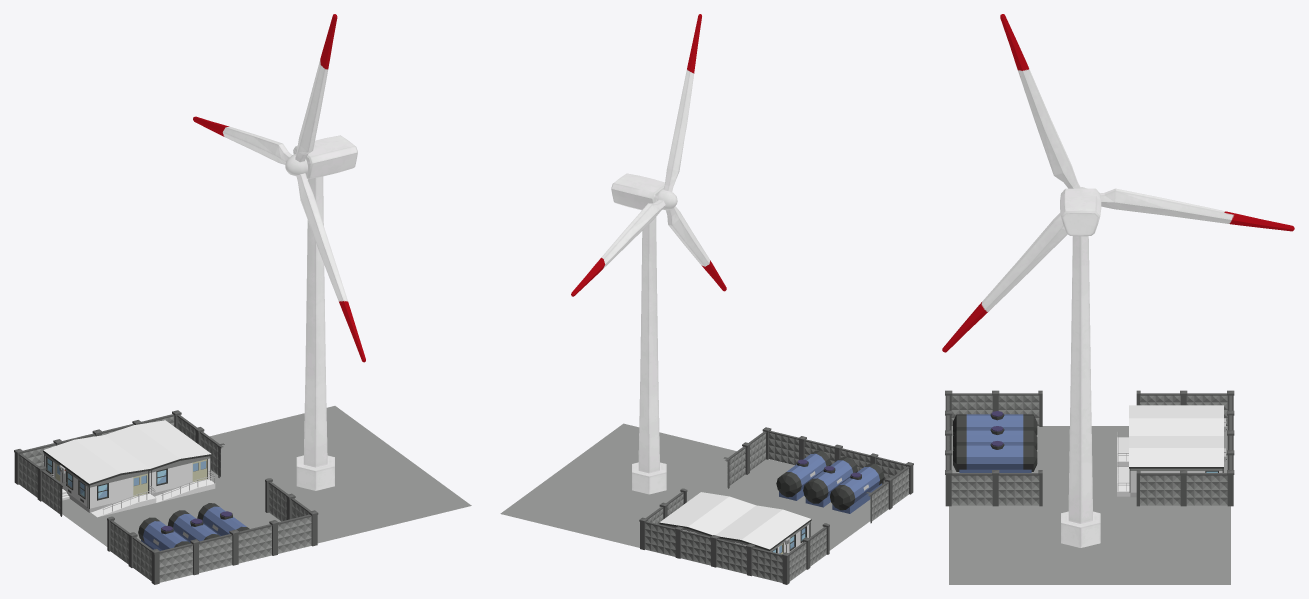
The model's file is turbin1.glb.
3 renders of one model, left to right at view 1: azimuth 30°, elevation 25°; view 2: azimuth 150°, elevation 25°; view 3: azimuth 270°, elevation 25°, orthographic. The views are drawn at different scales.
Visible parts, largest first — view 1: Wind_Turbin, store_005 (1), Helice_Eolienne, store_005 (2), fence_dark_004 (1), fence_dark_004 (3), tile_for_home_1x1_007 (26), tile_for_home_1x1_007 (25), tile_for_home_1x1_007 (24), tile_for_home_1x1_007 (27), tile_for_home_1x1_007 (23), tile_for_home_1x1_007 (22) (+7 smaller); view 2: Wind_Turbin, Helice_Eolienne, fence_dark_004, store_005 (1), tile_for_home_1x1_007 (27), fence_dark_004 (2), fence_dark_004 (3), tile_for_home_1x1_007 (25), store_005 (2), fence_dark_004 (1), tile_for_home_1x1_007 (23), tile_for_home_1x1_007 (26) (+9 smaller); view 3: Wind_Turbin, Helice_Eolienne, store_005 (2), tile_for_home_1x1_007 (24), tile_for_home_1x1_007 (23), tile_for_home_1x1_007 (27), tile_for_home_1x1_007 (26), tile_for_home_1x1_007 (25), fence_dark_004 (2), fence_dark_004 (3), store_005 (1), barrel_001.001 (2) (+7 smaller).
Part boxes in pixels (x1,y1,x2,y2): Wind_Turbin: (293,135,357,490); store_005 (1): (43,435,156,517); Helice_Eolienne: (193,14,365,362); store_005 (2): (105,420,215,502); fence_dark_004 (1): (107,516,236,584); fence_dark_004 (3): (233,478,318,564); tile_for_home_1x1_007 (26): (348,472,471,524); tile_for_home_1x1_007 (25): (327,439,425,491); tile_for_home_1x1_007 (24): (210,425,298,477); tile_for_home_1x1_007 (27): (256,406,380,456); tile_for_home_1x1_007 (23): (301,491,392,543); tile_for_home_1x1_007 (22): (223,459,346,508); Wind_Turbin: (611,173,666,494); Helice_Eolienne: (571,14,726,296); fence_dark_004: (713,523,829,584); store_005 (1): (716,505,811,554); tile_for_home_1x1_007 (27): (500,484,611,531); fence_dark_004 (2): (639,488,715,566); fence_dark_004 (3): (723,427,839,488); tile_for_home_1x1_007 (25): (541,453,631,500); store_005 (2): (659,492,755,536); fence_dark_004 (1): (836,445,913,523); tile_for_home_1x1_007 (23): (664,441,736,488); tile_for_home_1x1_007 (26): (583,423,693,465); Wind_Turbin: (1060,188,1101,547); Helice_Eolienne: (942,14,1294,352); store_005 (2): (1117,436,1226,497); tile_for_home_1x1_007 (24): (1137,505,1230,545); tile_for_home_1x1_007 (23): (949,505,1042,545); tile_for_home_1x1_007 (27): (1137,545,1230,584); tile_for_home_1x1_007 (26): (949,545,1042,584); tile_for_home_1x1_007 (25): (1043,545,1136,584); fence_dark_004 (2): (1136,431,1234,506); fence_dark_004 (3): (945,431,1042,506); store_005 (1): (1117,405,1226,466); barrel_001.001 (2): (953,441,1037,472).
Size of the model in its own units: 32.39 by 48.66 by 29.98.
2 materials, 2 textured.
